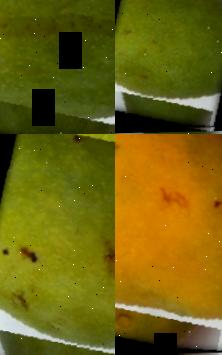PartiallyRipe: (115, 134, 222, 355)
Unripe: (0, 134, 115, 355), (0, 0, 115, 134), (115, 0, 222, 131)
